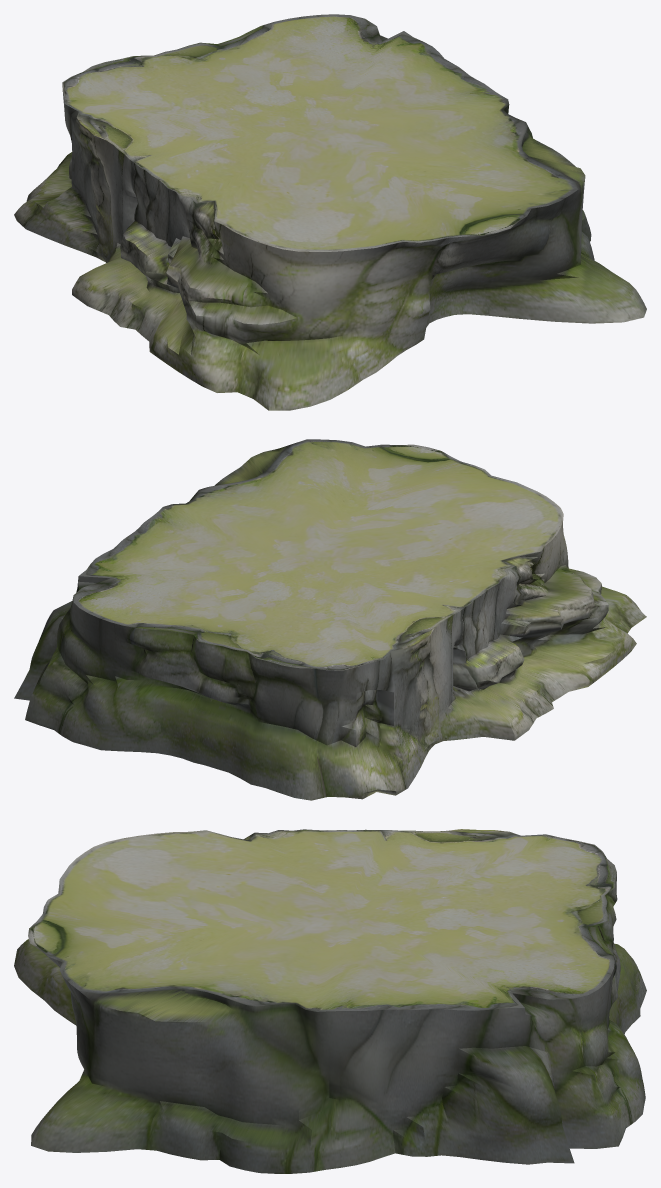
File: CourtPlateau_LOD0.fbx
The picture shows the model from 3 angles, top to bottom: view 1: azimuth 30°, elevation 25°; view 2: azimuth 150°, elevation 25°; view 3: azimuth 270°, elevation 25°; orthographic projection. The views are drawn at different scales.
Visible parts, largest first — view 1: CourtPlateau_LOD0; view 2: CourtPlateau_LOD0; view 3: CourtPlateau_LOD0.
Part boxes in pixels (x1,y1,x2,y2): CourtPlateau_LOD0: [14, 14, 646, 410]; CourtPlateau_LOD0: [14, 439, 646, 800]; CourtPlateau_LOD0: [14, 829, 646, 1173].
Size of the model in its own units: 58.96 by 15.05 by 65.22.
Materials: 1 (1 with a texture image).
